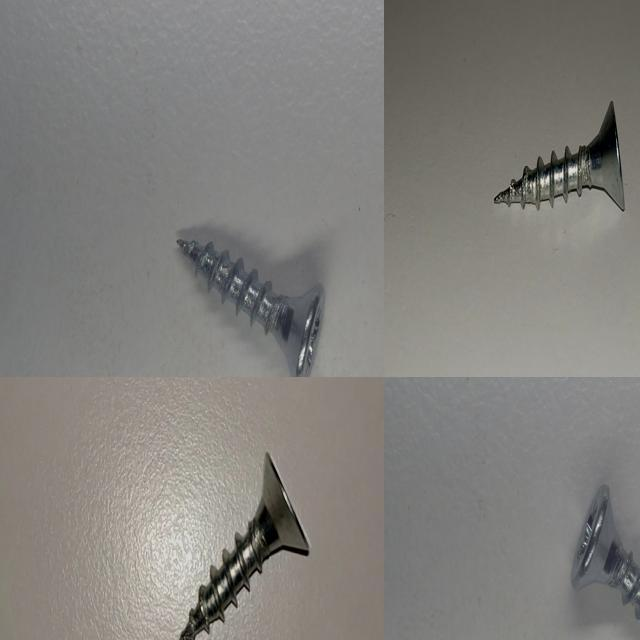Screw: (179, 451, 310, 640), (177, 238, 325, 377), (494, 100, 625, 209), (571, 483, 640, 618)
